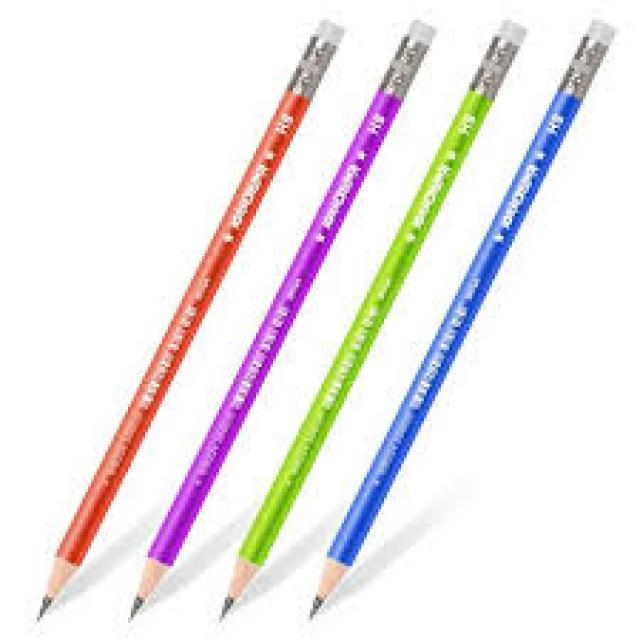pencil: (120, 9, 459, 632), (30, 8, 367, 633), (301, 10, 630, 637), (213, 12, 543, 633)
